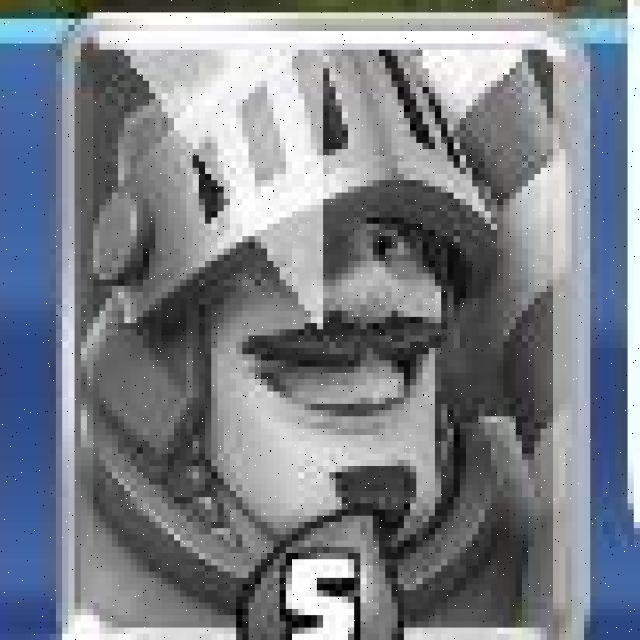Prince: (56, 8, 589, 634)
